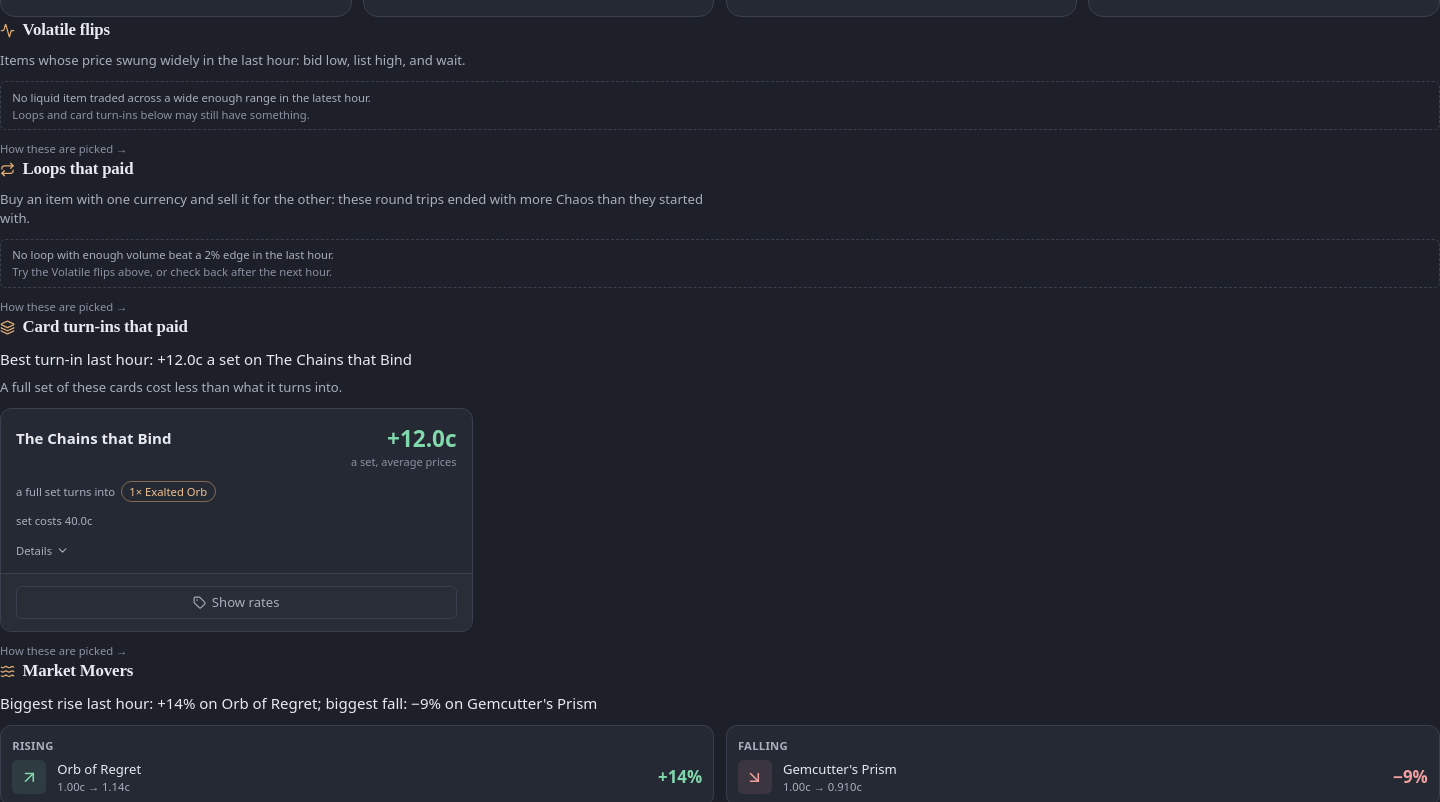
Scenario: Market recap: card turn-ins › keeps the odds behind Details and the price on the card
The width and height of the screenshot is (1440, 802).
(page scrolled)
Expected: the text "set costs 40.0c" is shown, [16,513,92,528]
Expected: the text "1× Exalted Orb" is shown, [121,481,216,502]
Click the button "Details" at (42, 551), box [16,536,69,566]
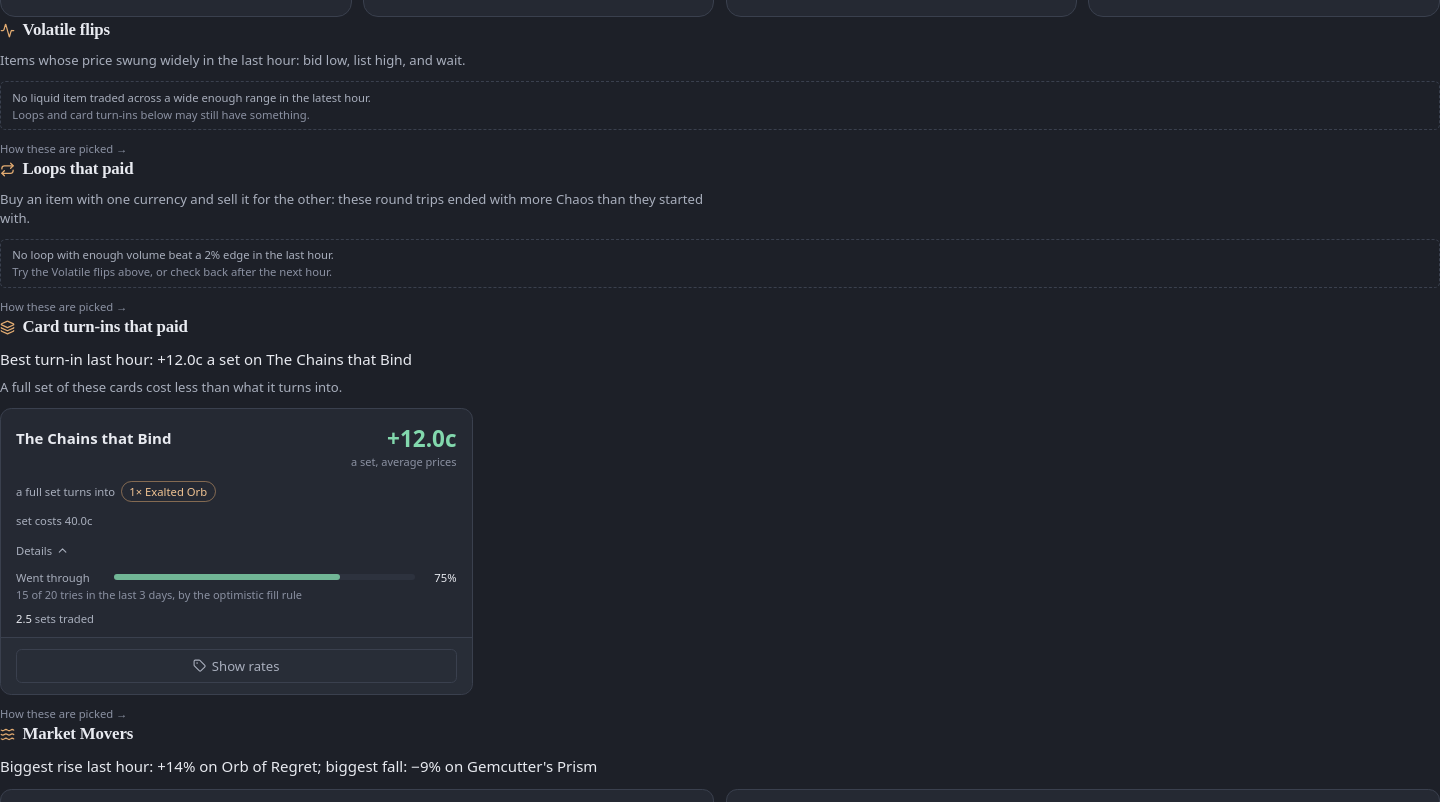
Now the text "15 of 20 tries in the last 3 days" is shown, box [16,586,302,602]
Now the text "Went through" is shown, box [16,570,90,585]
Now the text "2.5 sets traded" is shown, box [16,610,94,626]
